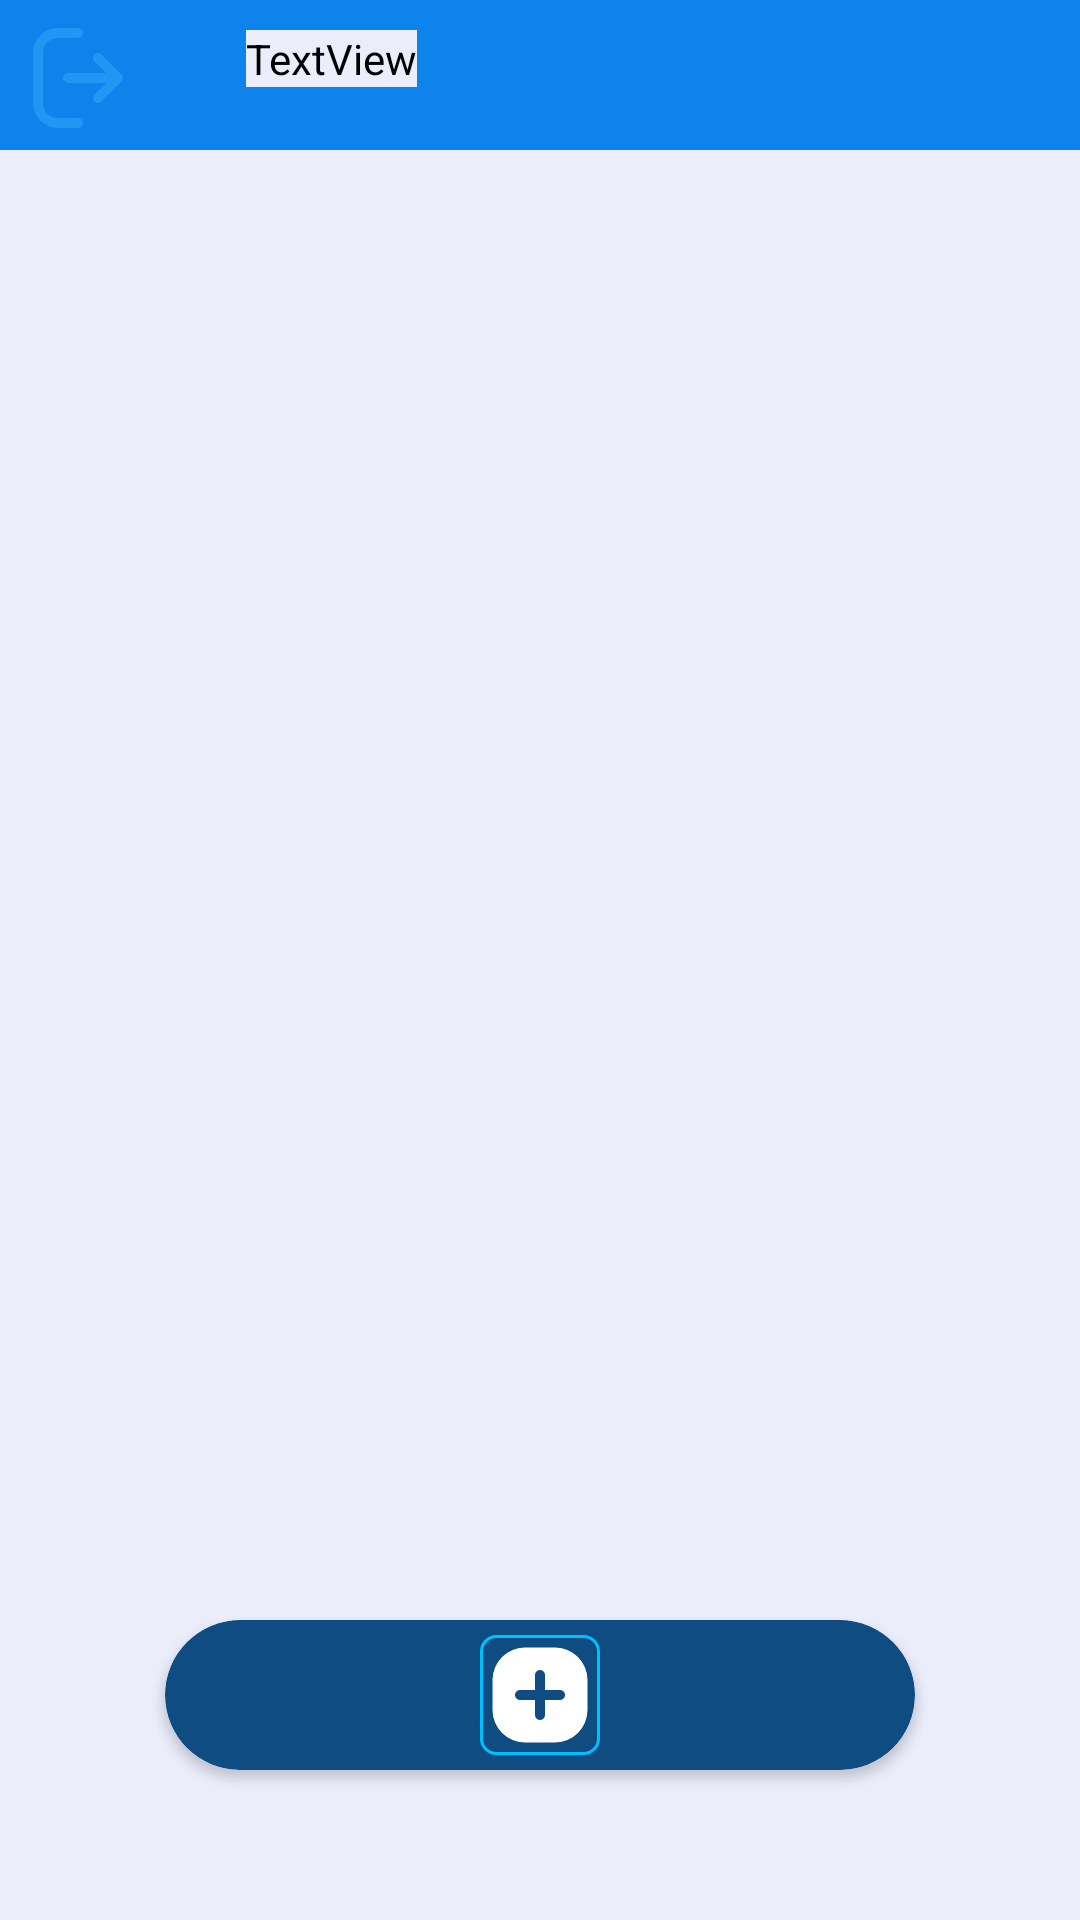

Where icons sit on this 1080x1920 app screen, as (x1, y1, x2, y2):
newchat: (480, 1635, 600, 1755)
